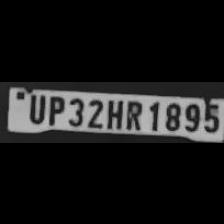1: (143, 97, 161, 131)
2: (84, 96, 104, 127)
3: (65, 94, 84, 126)
5: (202, 97, 220, 132)
8: (162, 98, 180, 130)
9: (182, 98, 200, 130)
H: (104, 96, 122, 128)
P: (46, 92, 64, 124)
R: (124, 96, 142, 130)
U: (23, 91, 44, 123)
